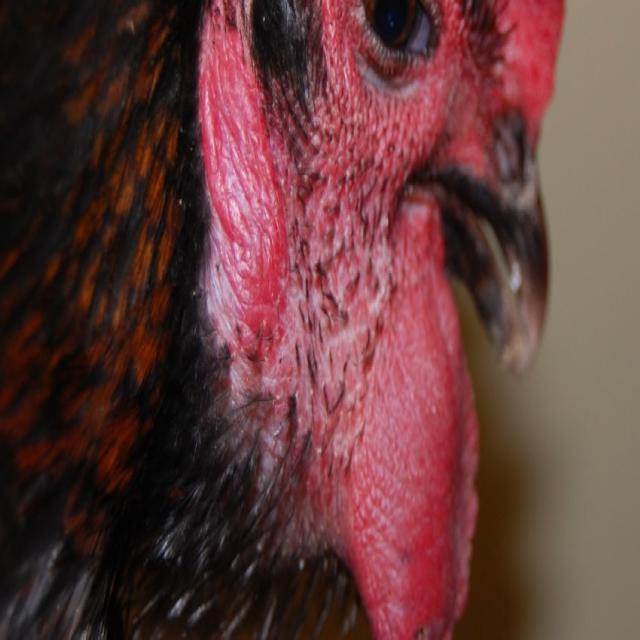Fowl cholera: (178, 41, 562, 599)
